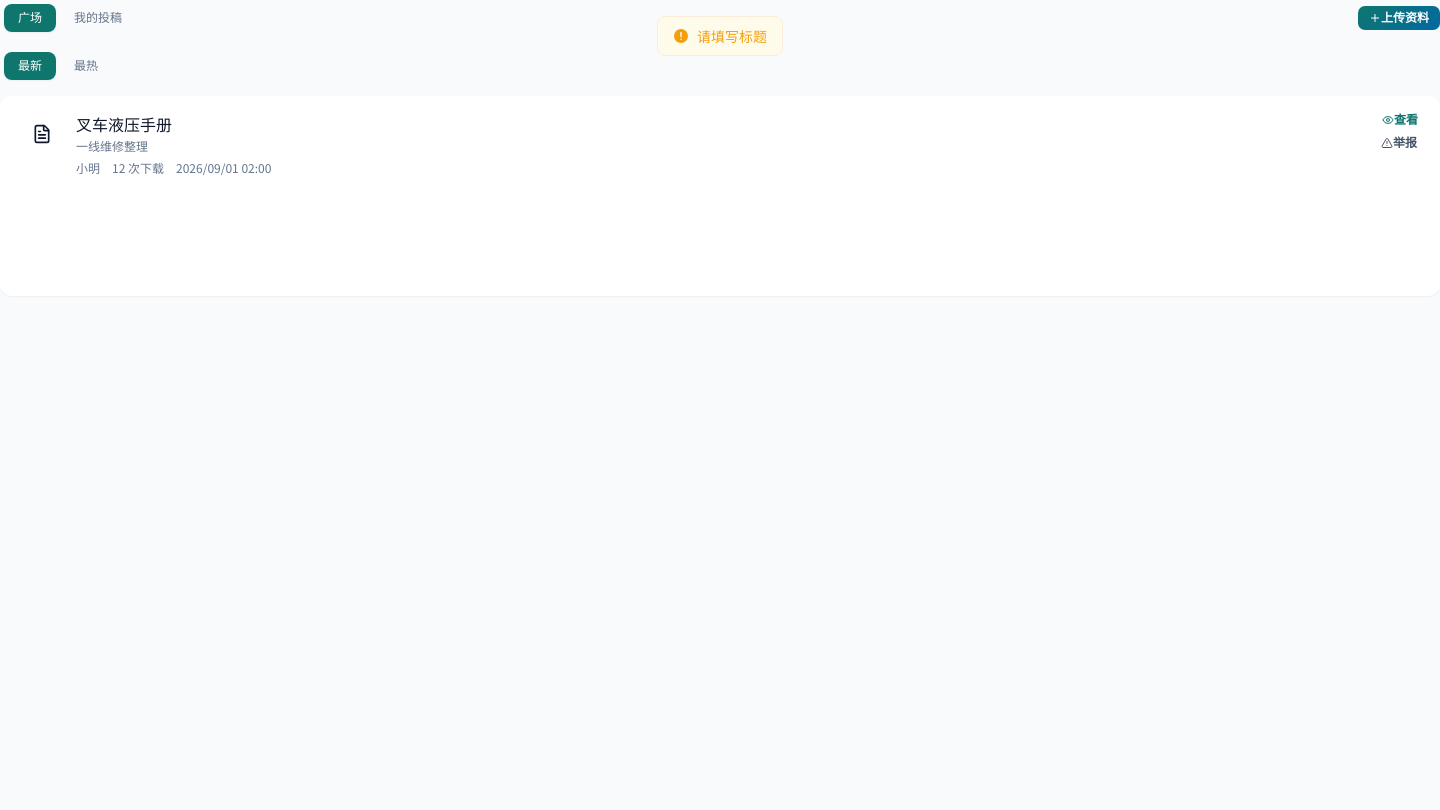
Test case: ContributionTab 学员投稿（#517） › 上传抽屉：目标证件默认当前证件（#702）
Click the button "上传资料". click: (1399, 18)
box: left=1358, top=6, right=1439, bottom=30
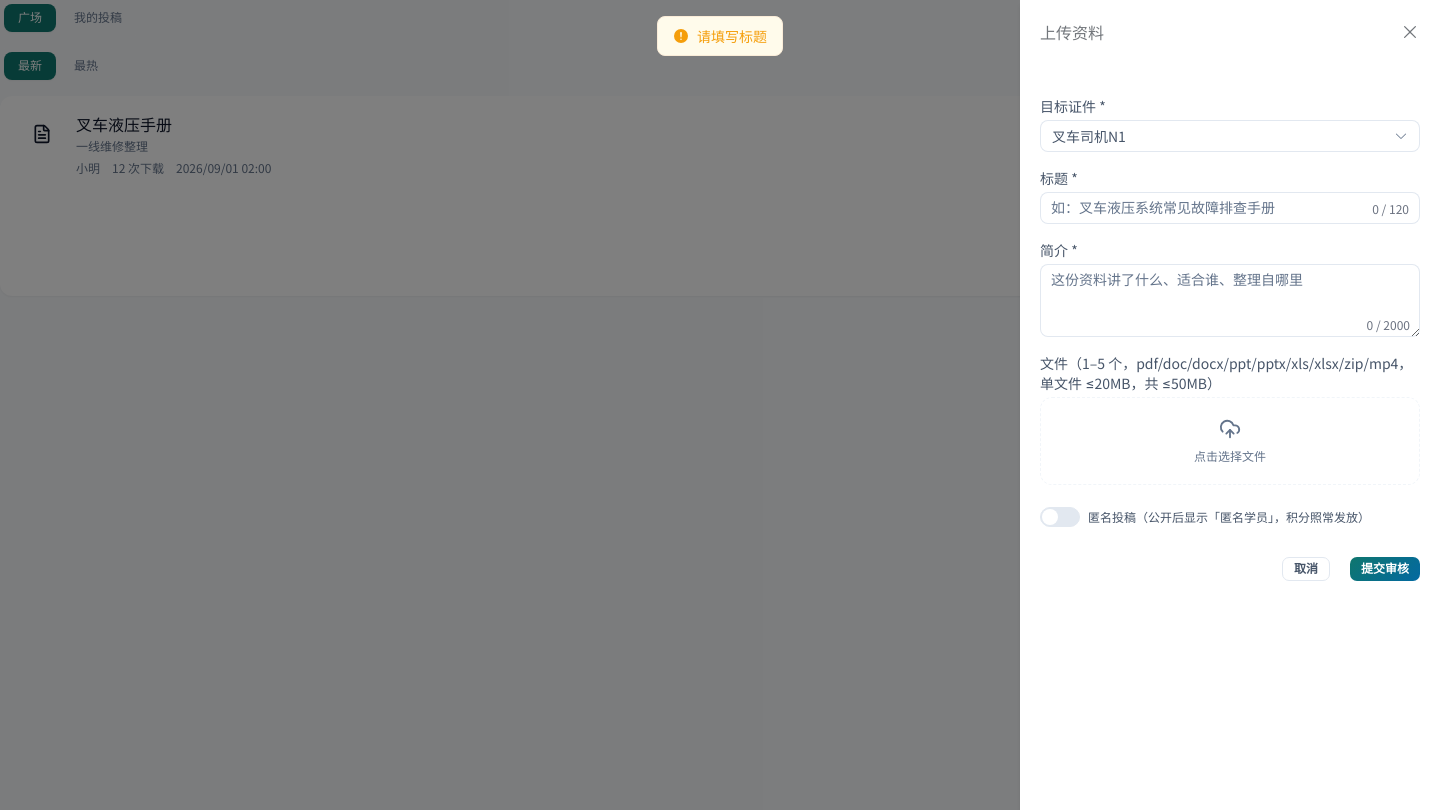
Check: the text "目标证件" is shown, box left=1040, top=96, right=1099, bottom=116
